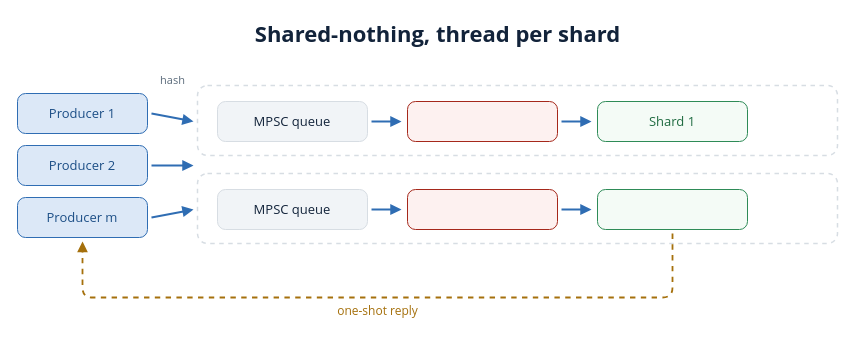
The diagram is 856 pixels wide and 338 high, and some of its shapes have lost their labels. Each missing label, with the centre of its shape:
"Shard n" goes at (672,209).
"Worker 1" goes at (482,121).
"Worker n" goes at (482,209).
